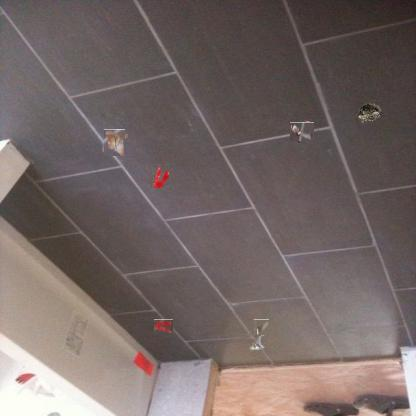dirty: (356, 100, 382, 124), (102, 131, 127, 155), (292, 121, 313, 142), (246, 334, 266, 352), (253, 320, 270, 338)
liquid: (151, 164, 169, 188), (153, 319, 173, 334)
